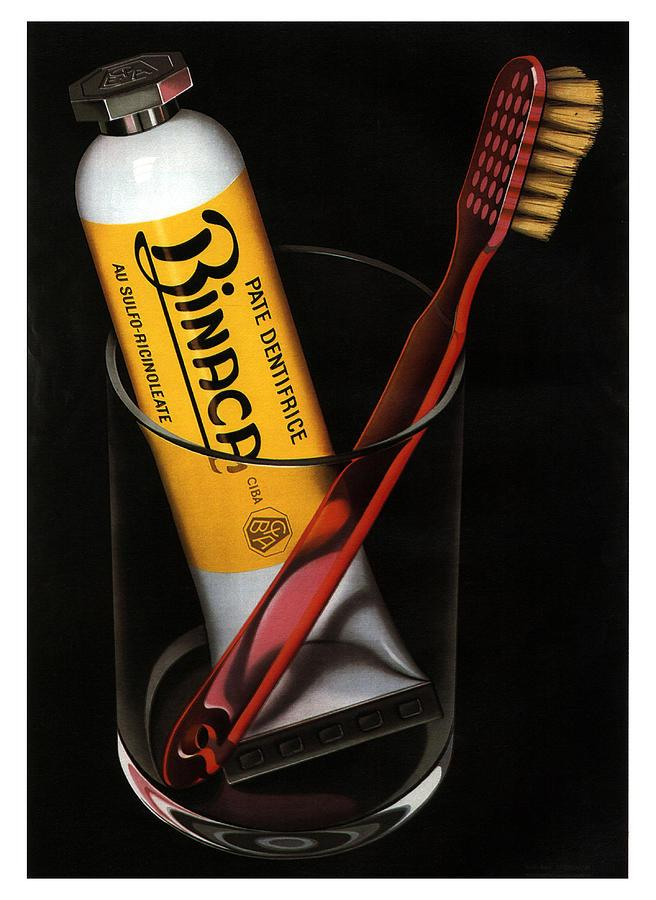toothpaste: (55, 29, 417, 745)
